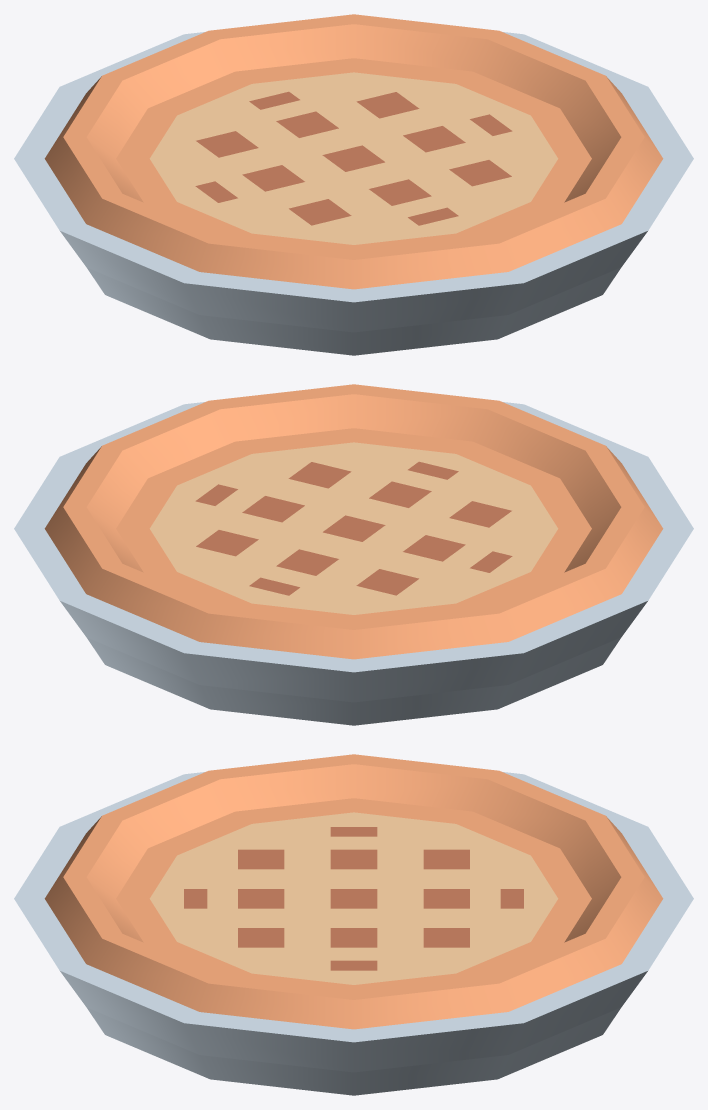
File: pie.obj
The picture shows the model from 3 angles, top to bottom: view 1: azimuth 30°, elevation 25°; view 2: azimuth 150°, elevation 25°; view 3: azimuth 270°, elevation 25°; orthographic projection.
Parts seen in each view (by area): view 1: pie; view 2: pie; view 3: pie.
Boxes of the visible parts, left/top/right/bottom form: pie: left=14, top=14, right=693, bottom=355; pie: left=14, top=384, right=693, bottom=725; pie: left=14, top=754, right=693, bottom=1095.
Size of the model in its own units: 0.9504 by 0.1497 by 0.9504.
